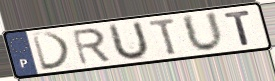D: (30, 31, 74, 73)
R: (70, 26, 114, 67)
T: (147, 16, 181, 57), (223, 9, 254, 47)
U: (179, 10, 226, 54), (108, 19, 151, 63)
